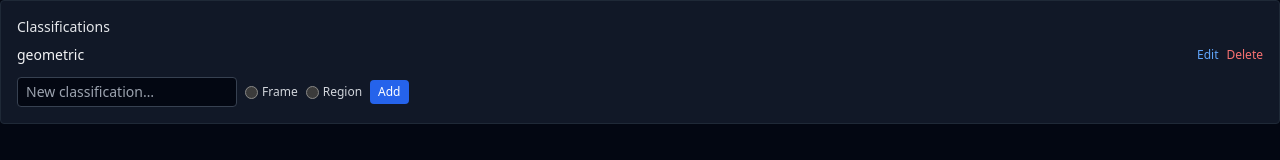
ClassificationsPanel › shows the 409 error message inline when a classification still has labels
Expected: the text "geometric" is shown, x1=17 y1=45 x2=84 y2=65
Click the button with aria-label "delete geometric" at (1245, 55), box x1=1226 y1=47 x2=1263 y2=63
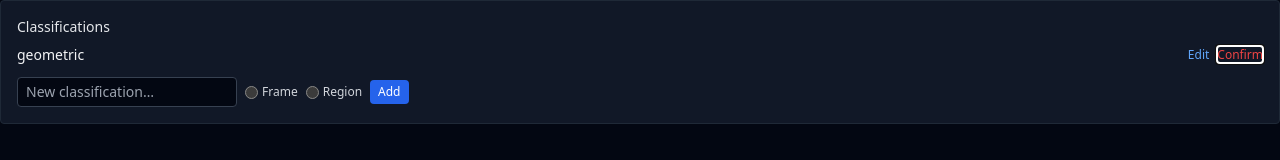
Click the button with aria-label "confirm delete geometric" at (1240, 55), box x1=1217 y1=47 x2=1263 y2=63
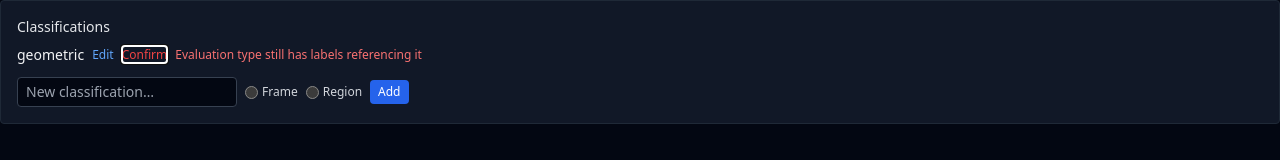
Expected: the text "Evaluation type still has labels referencing it" is shown, x1=175 y1=46 x2=422 y2=63
